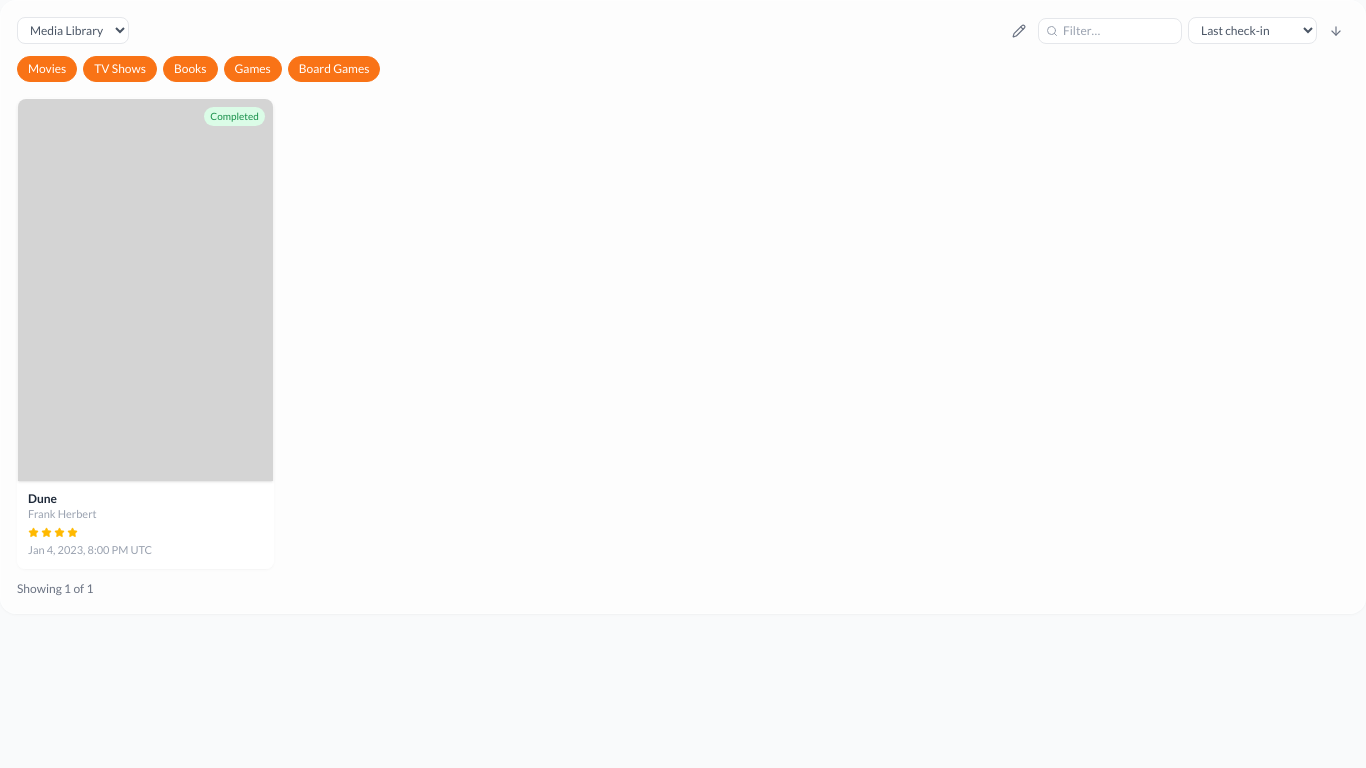
Test: MediaLibrarySection › toggles media type filters and refetches
This screenshot has width=1366, height=768.
Expected: the text "Dune" is shown, [28, 491, 57, 506]
Click the button "Movies" at (47, 69), box [17, 56, 77, 82]
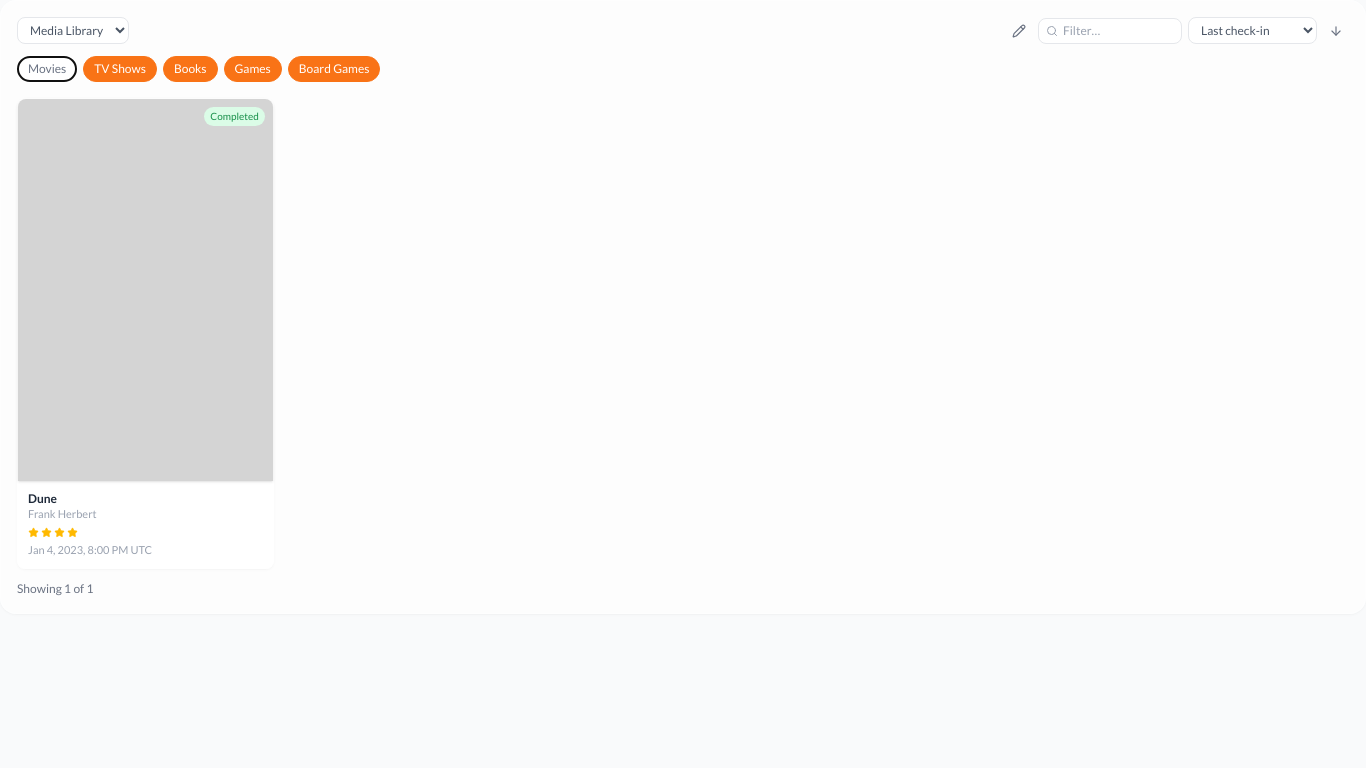
Click the button "TV Shows" at (120, 69), box [83, 56, 157, 82]
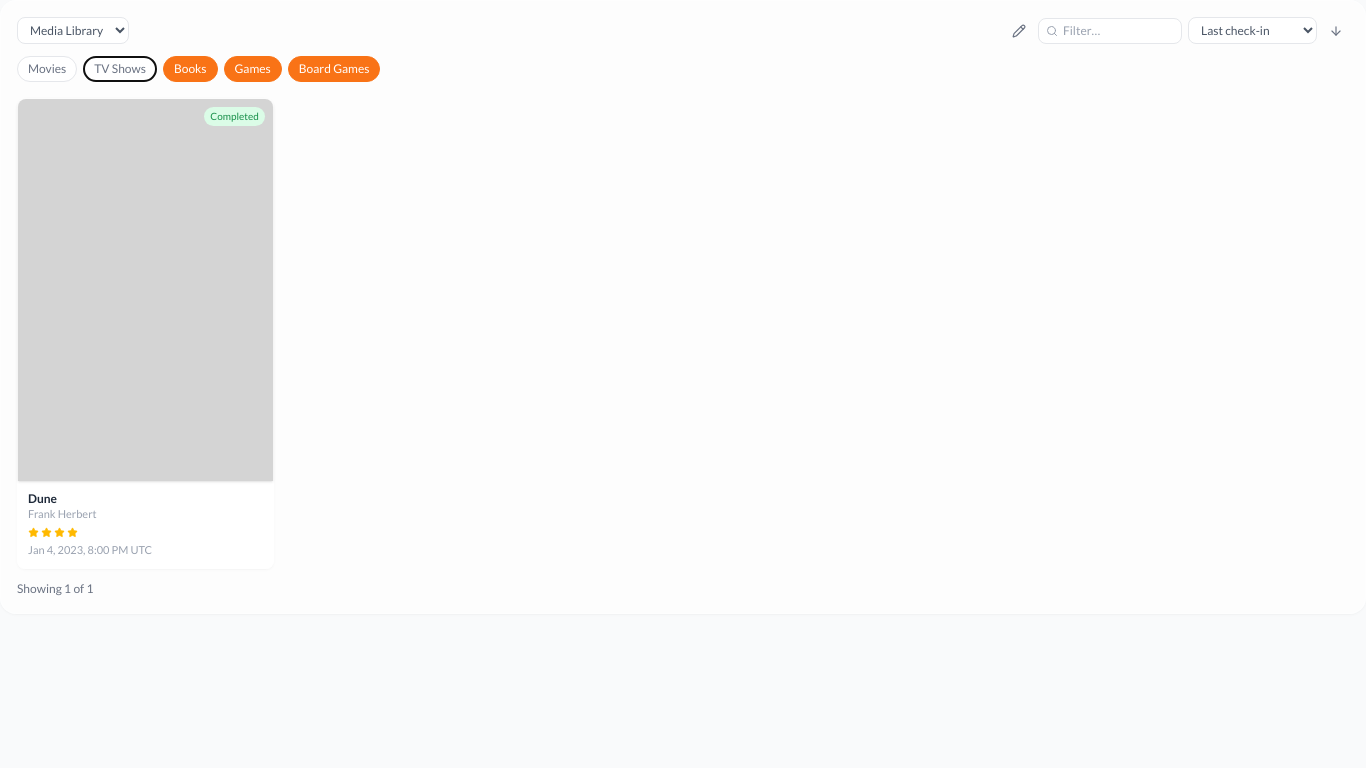
Click the button "Games" at (253, 69), box [224, 56, 282, 82]
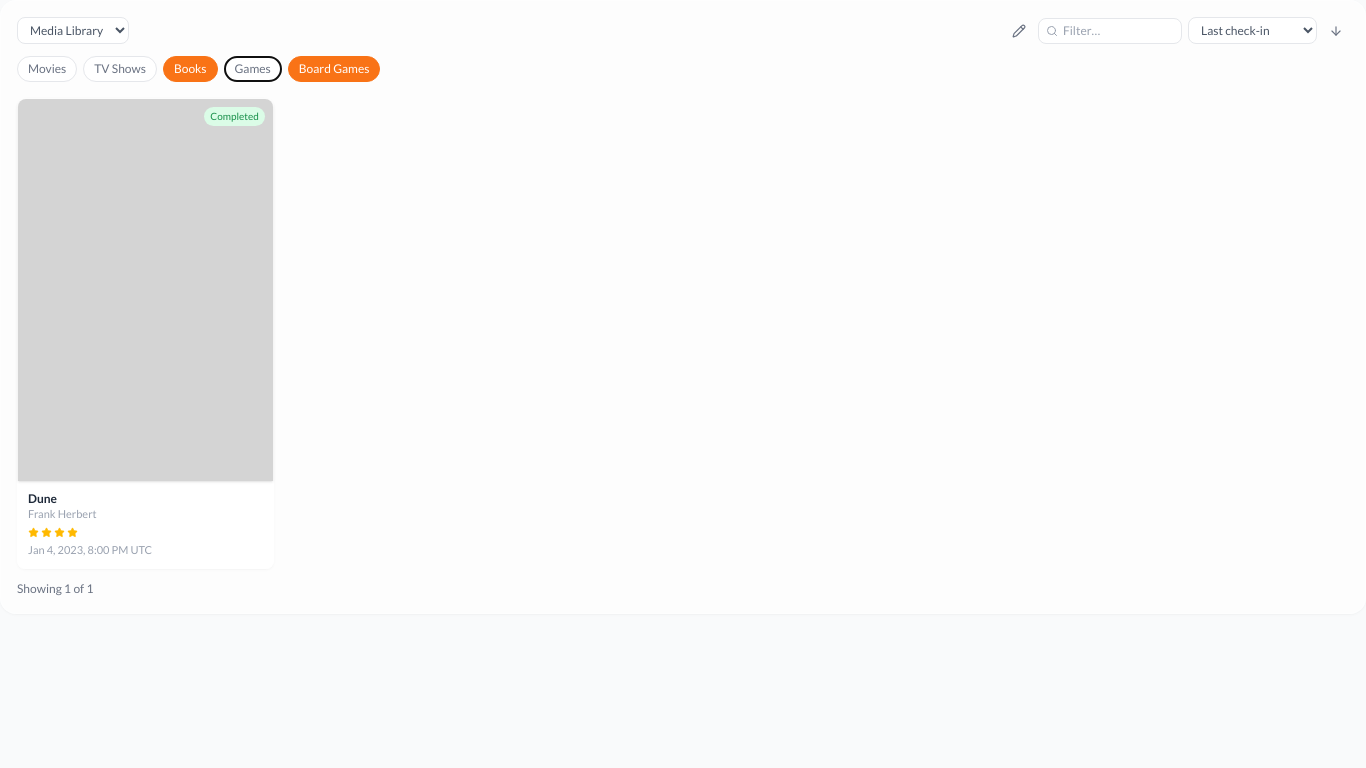
Click the button "Books" at (190, 69), box [163, 56, 218, 82]
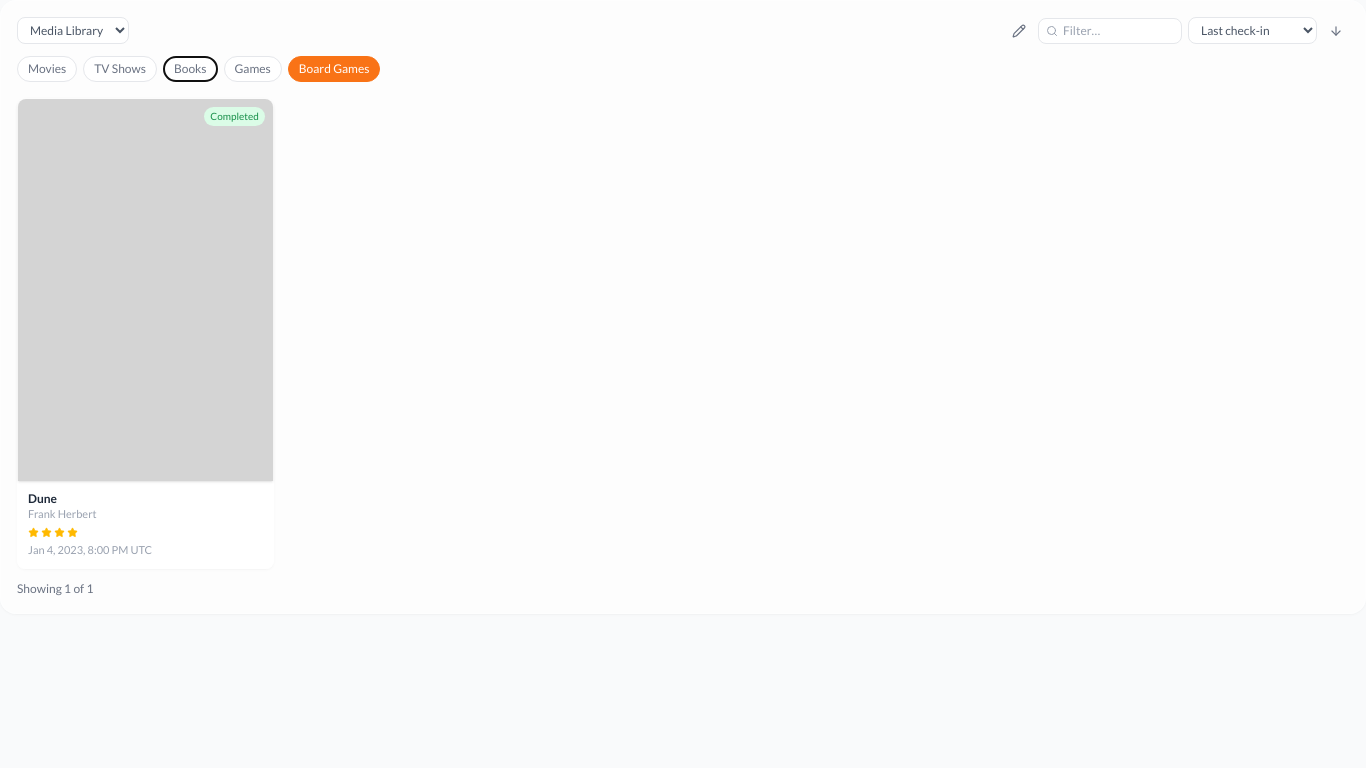
Click the button "Board Games" at (334, 69), box [288, 56, 380, 82]
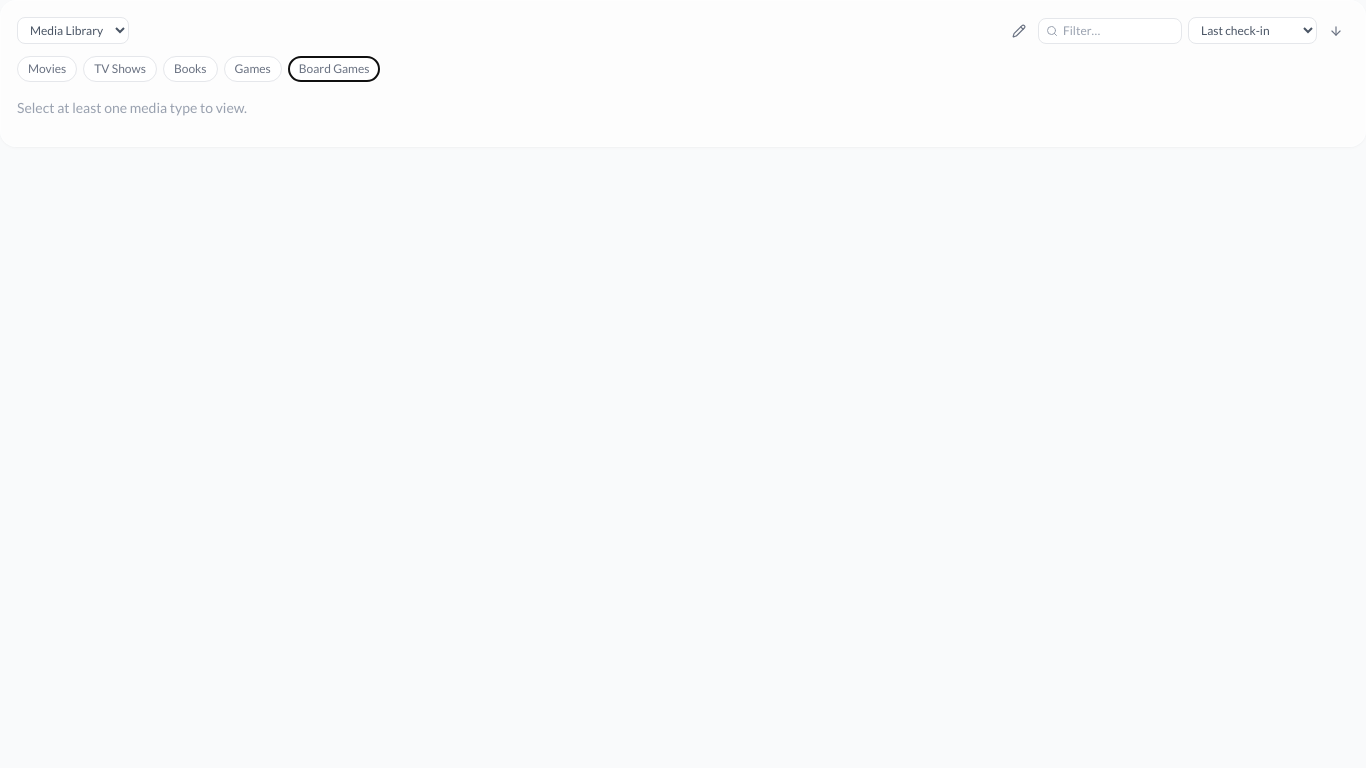
Result: the text "Select at least one media type to view." is shown at [17, 99, 247, 116]
